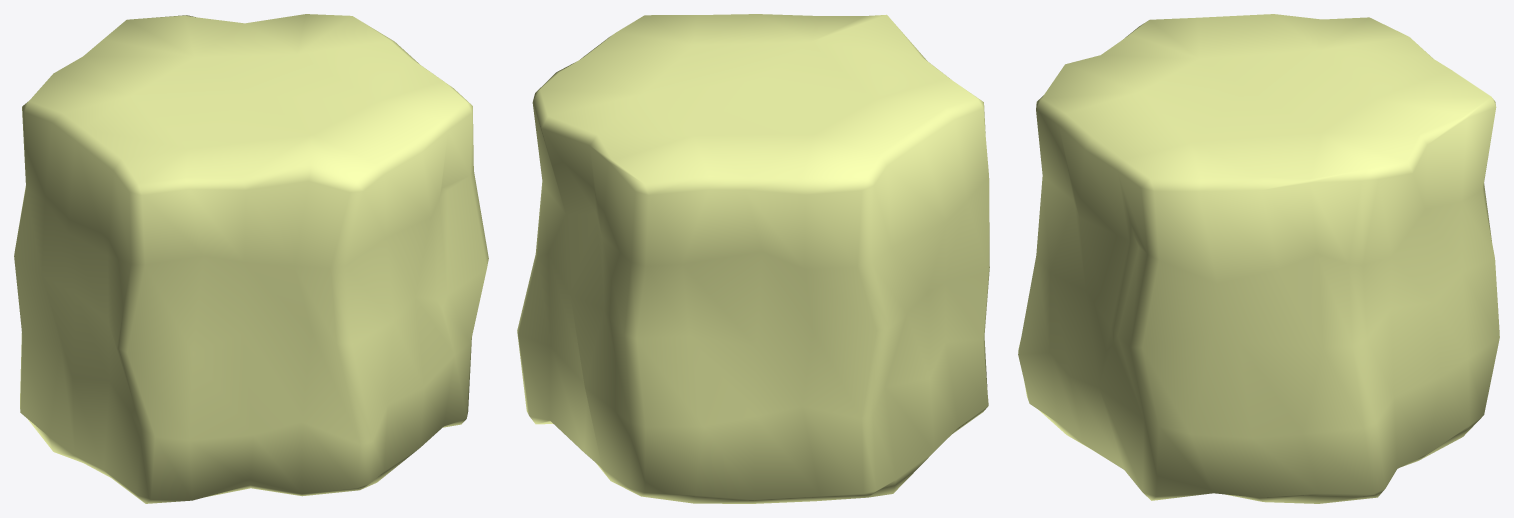
File: sand tile.fbx
3 renders of one model, left to right at view 1: azimuth 30°, elevation 25°; view 2: azimuth 150°, elevation 25°; view 3: azimuth 270°, elevation 25°, orthographic.
Parts seen in each view (by area): view 1: sand; view 2: sand; view 3: sand.
Part boxes in pixels (x1,y1,x2,y2): sand: [14, 14, 488, 503]; sand: [517, 14, 989, 503]; sand: [1018, 14, 1499, 503].
Size of the model in its own units: 185 by 166 by 207.
